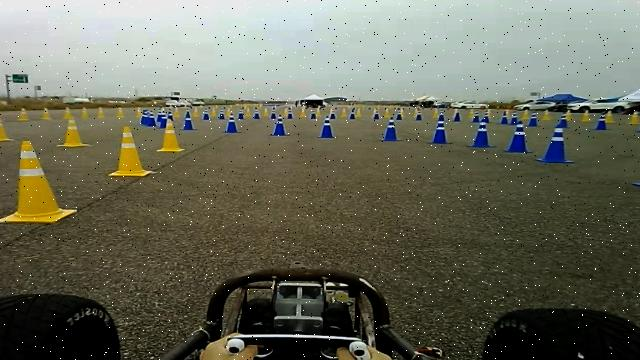blue cone: (538, 119, 575, 163), (503, 121, 532, 153), (467, 116, 496, 148), (428, 113, 452, 144), (381, 112, 402, 141), (270, 114, 291, 136), (318, 116, 336, 138), (222, 115, 242, 133), (180, 111, 198, 130)
yellow cone: (0, 140, 78, 224), (109, 126, 154, 176), (56, 118, 92, 148), (157, 118, 185, 152)
